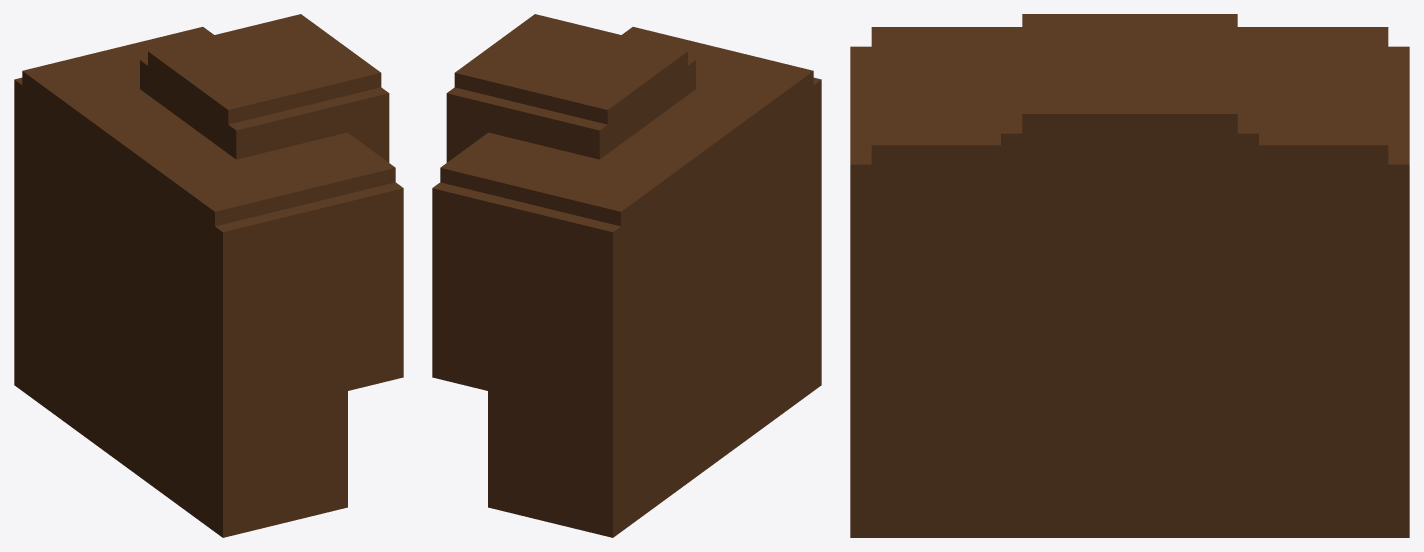
File: av_hair_short.glb
The picture shows the model from 3 angles, left to right: view 1: azimuth 30°, elevation 25°; view 2: azimuth 150°, elevation 25°; view 3: azimuth 270°, elevation 25°; orthographic projection. The views are drawn at different scales.
Visible parts, largest first — view 1: model; view 2: model; view 3: model.
Part boxes in pixels (left/top/right/bottom): model: left=14, top=14, right=403, bottom=537; model: left=432, top=14, right=821, bottom=537; model: left=850, top=14, right=1409, bottom=537.
Size of the model in its own units: 0.16 by 0.25 by 0.26.
